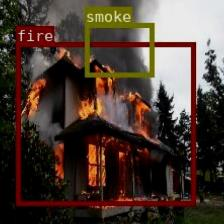fire: (15, 42, 194, 205)
smoke: (84, 22, 152, 76)
